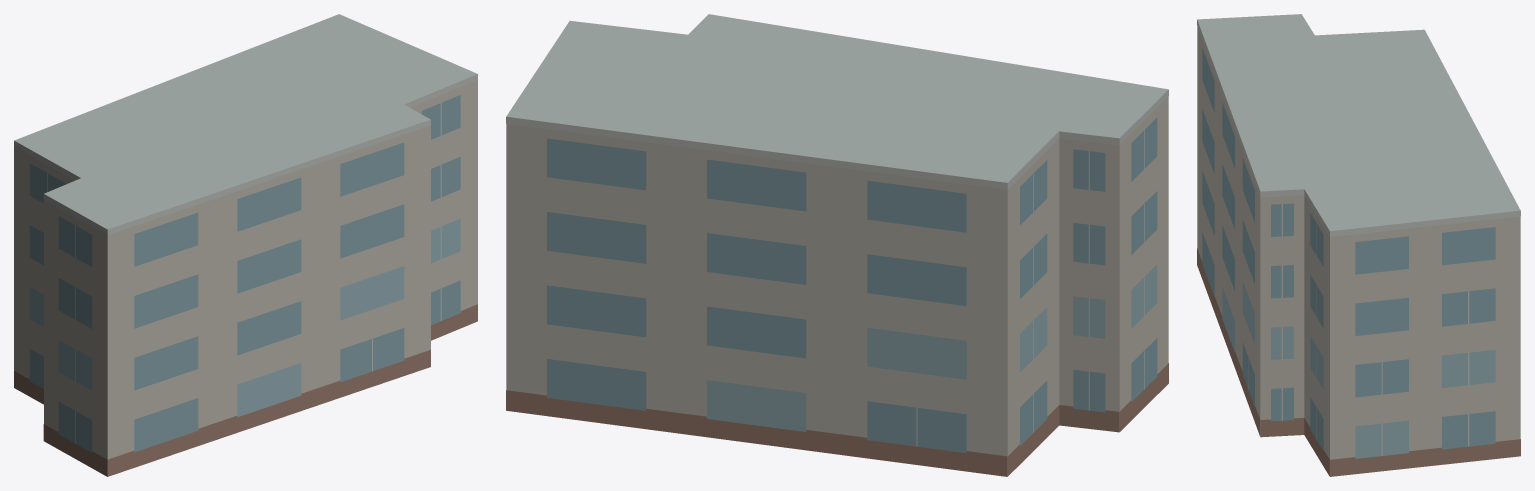
The model's file is survey-upis-32629458.glb.
3 views of the same model, side by side, from view 1: azimuth 30°, elevation 25°; view 2: azimuth 150°, elevation 25°; view 3: azimuth 270°, elevation 25° (orthographic). The views are drawn at different scales.
Visible parts, largest first — view 1: survey-upis-32629458.tmp; view 2: survey-upis-32629458.tmp; view 3: survey-upis-32629458.tmp.
Part boxes in pixels (bbox=[...]): survey-upis-32629458.tmp: bbox=[14, 14, 477, 476]; survey-upis-32629458.tmp: bbox=[506, 14, 1168, 476]; survey-upis-32629458.tmp: bbox=[1197, 14, 1520, 476].
Bounding box in the file's own units: 19.74 × 10.4 × 12.43.
